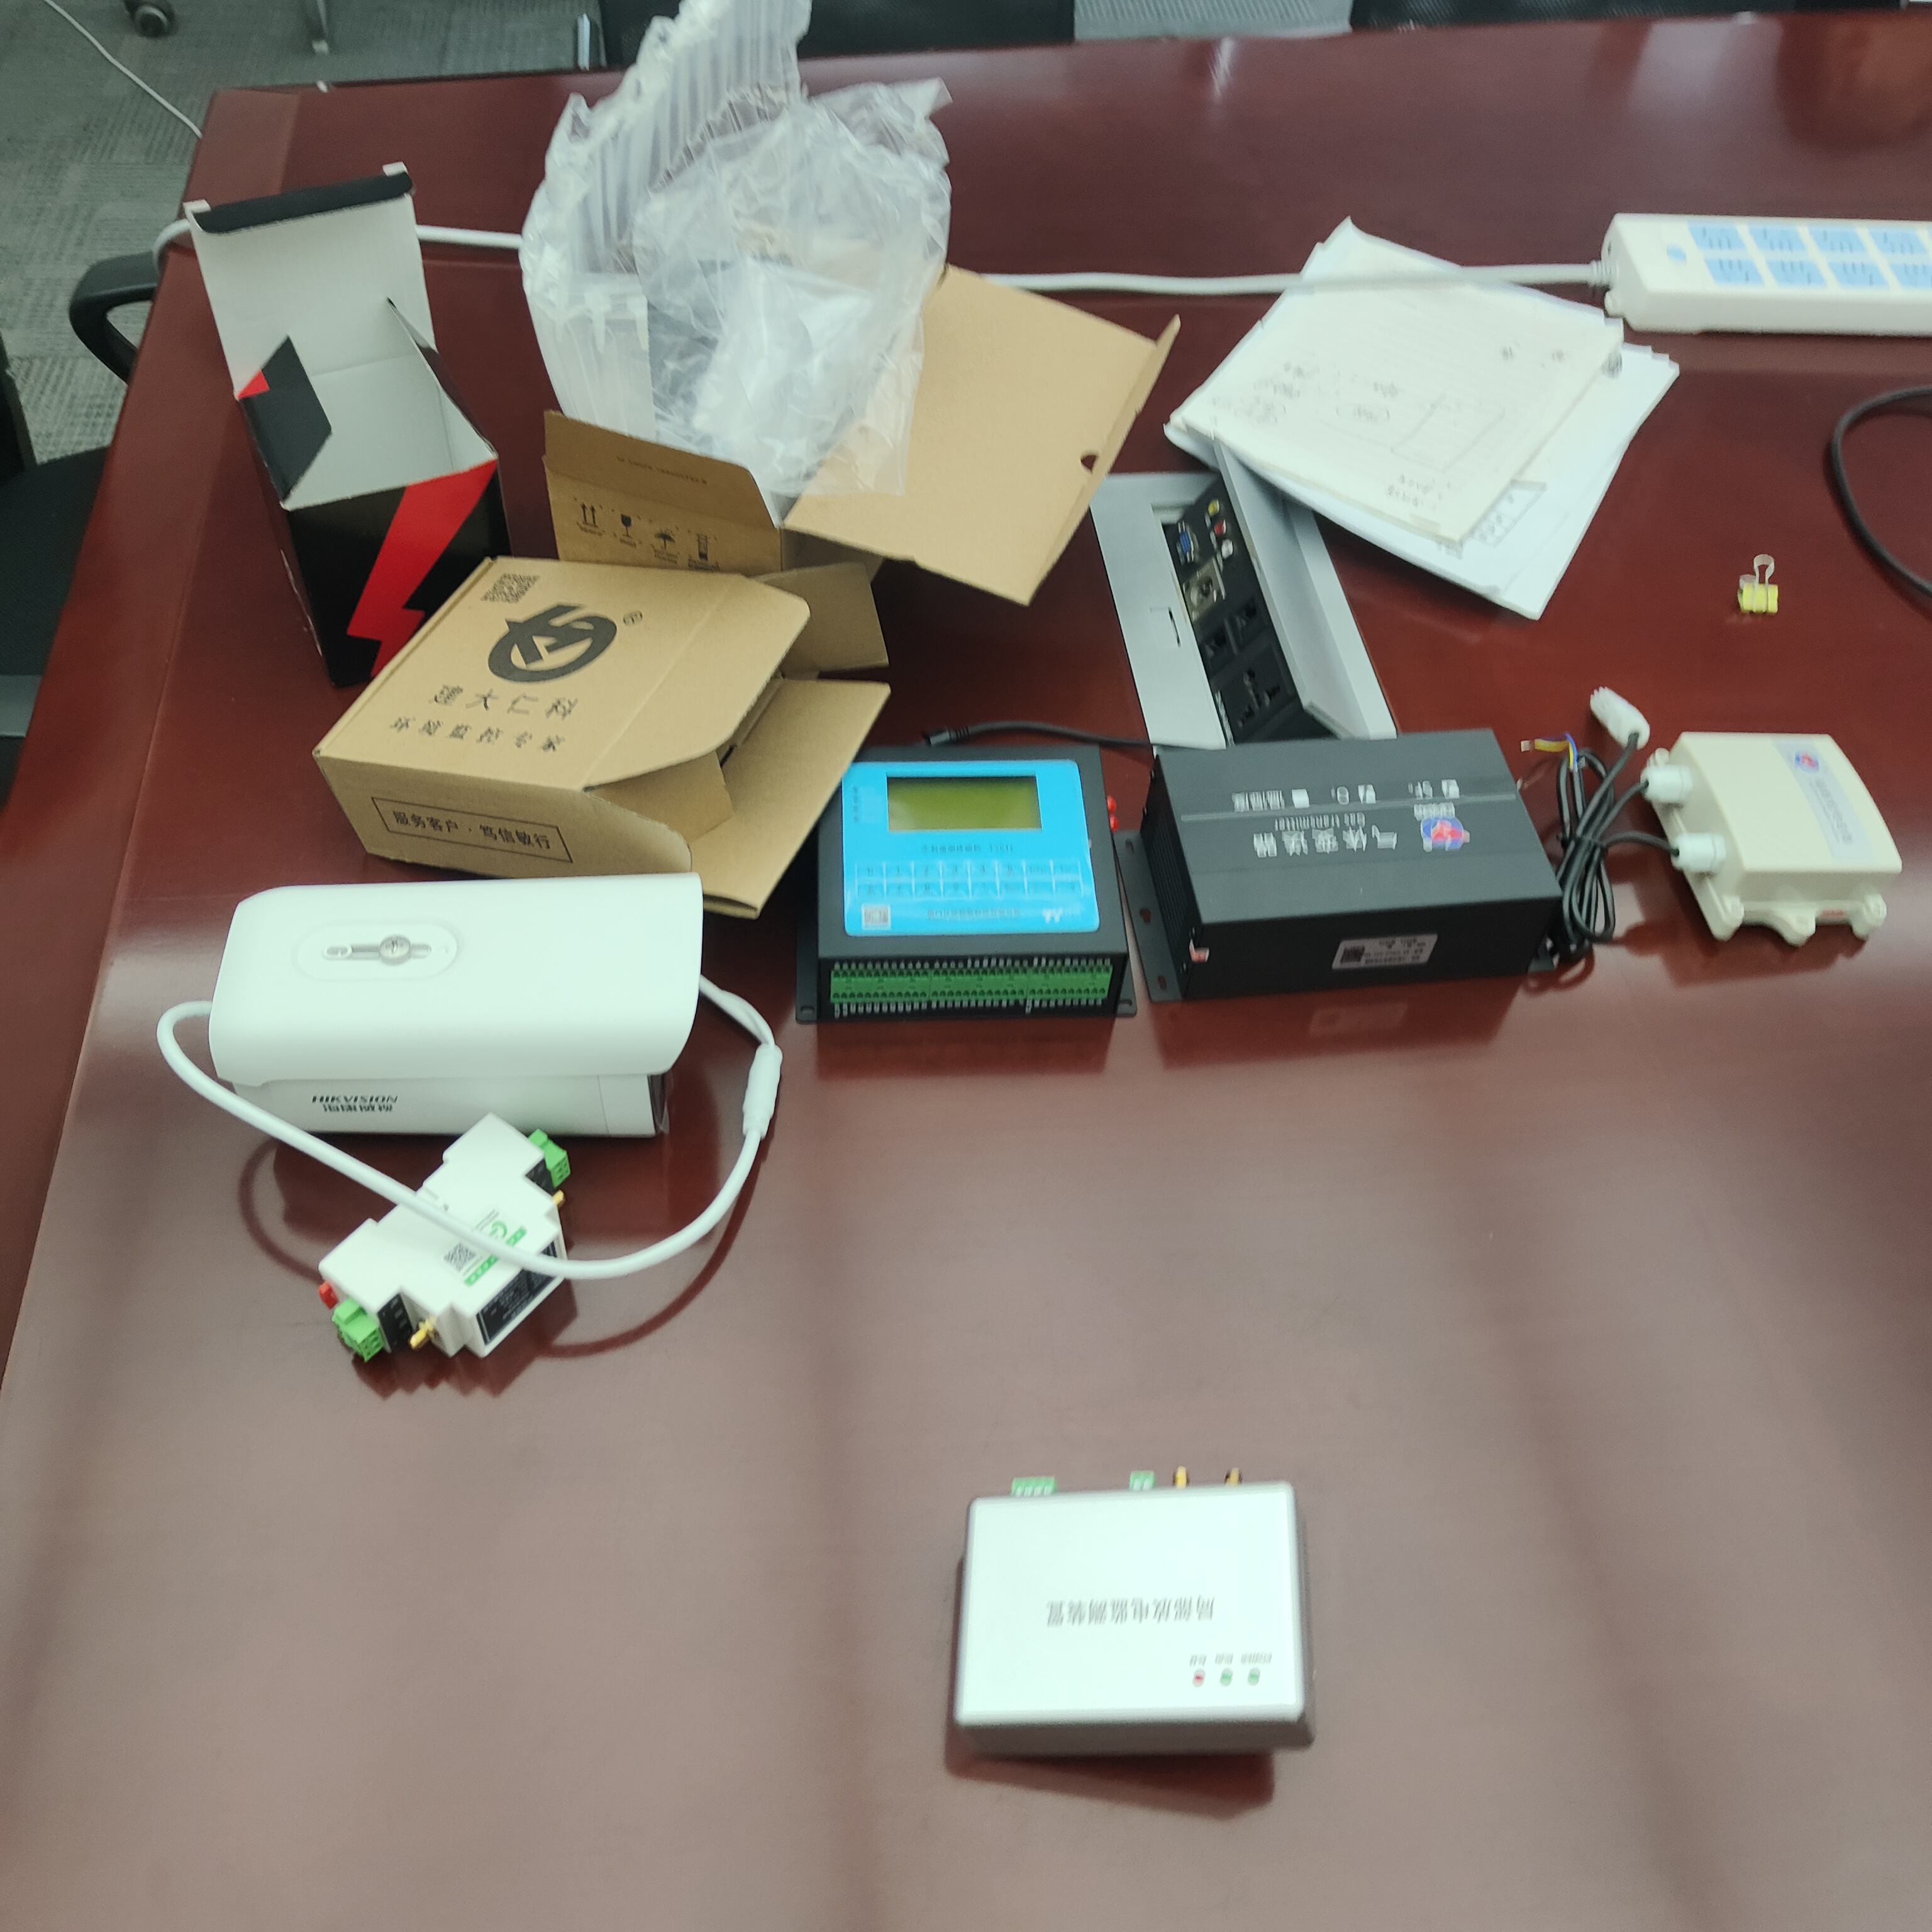dgjs: (318, 1129, 596, 1396)
hkws: (195, 860, 741, 1157)
jbfdjc: (925, 1442, 1334, 1767)
qtbsq: (1139, 702, 1571, 1030)
slyczd: (810, 732, 1138, 1039)
wsdbsq: (1638, 681, 1913, 962)
